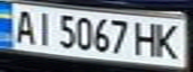0: (72, 15, 93, 52)
5: (54, 11, 78, 50)
6: (90, 16, 112, 54)
7: (109, 17, 133, 55)
A: (9, 7, 39, 45)
H: (130, 19, 163, 58)
I: (30, 9, 57, 47)
K: (151, 20, 187, 61)
